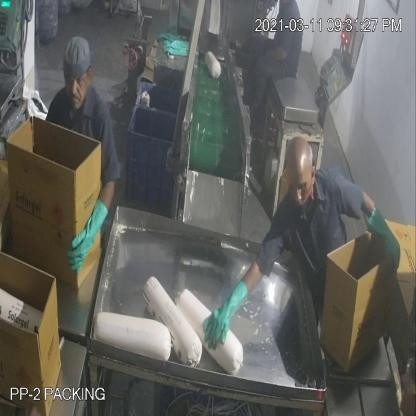glove: (198, 271, 252, 366), (63, 191, 109, 281), (366, 205, 402, 278)
